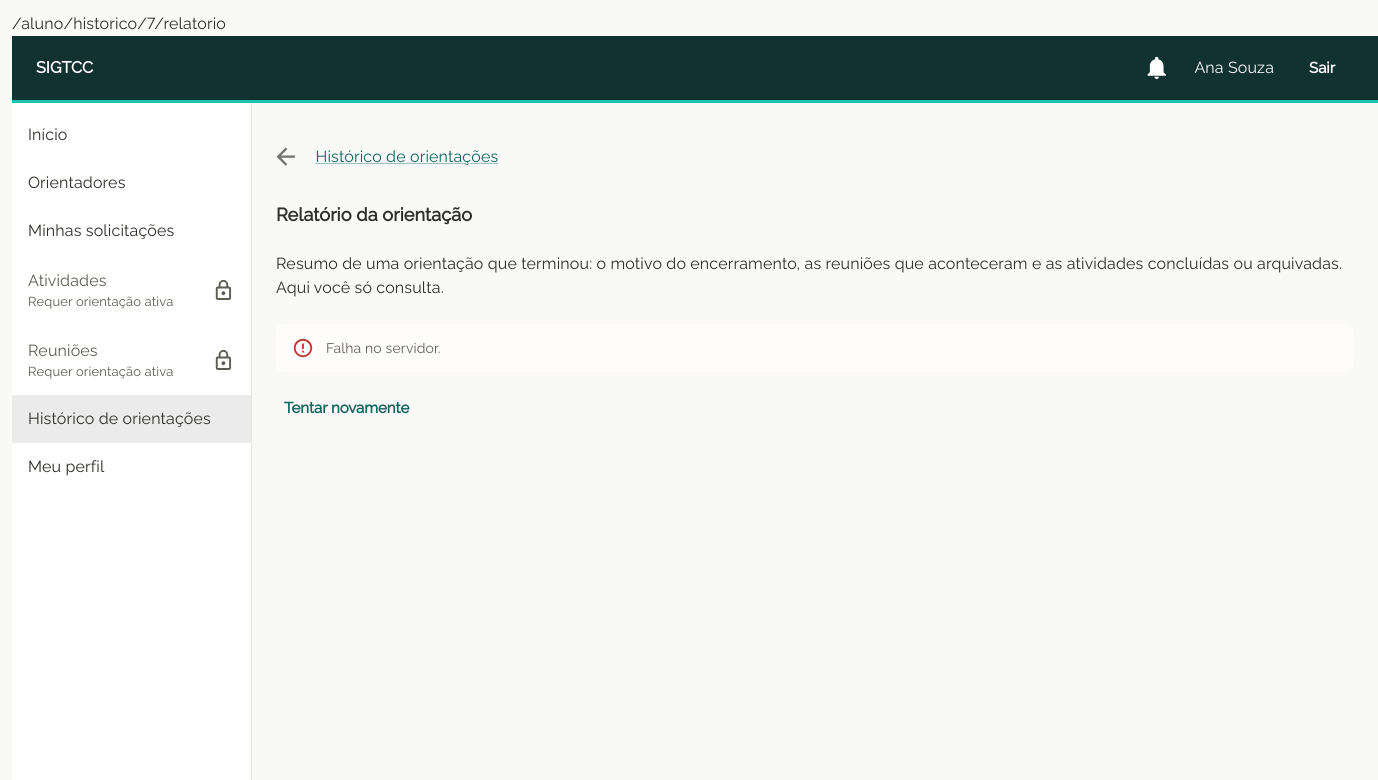
AdvisingReportPage: carregamento, erro e acesso negado › mostra a mensagem de erro e tenta de novo
The image size is (1378, 780).
Expected: the message shows ".", [276,324,1354,372]
Click the button "Tentar novamente": [347, 408] box [276,388,417,428]
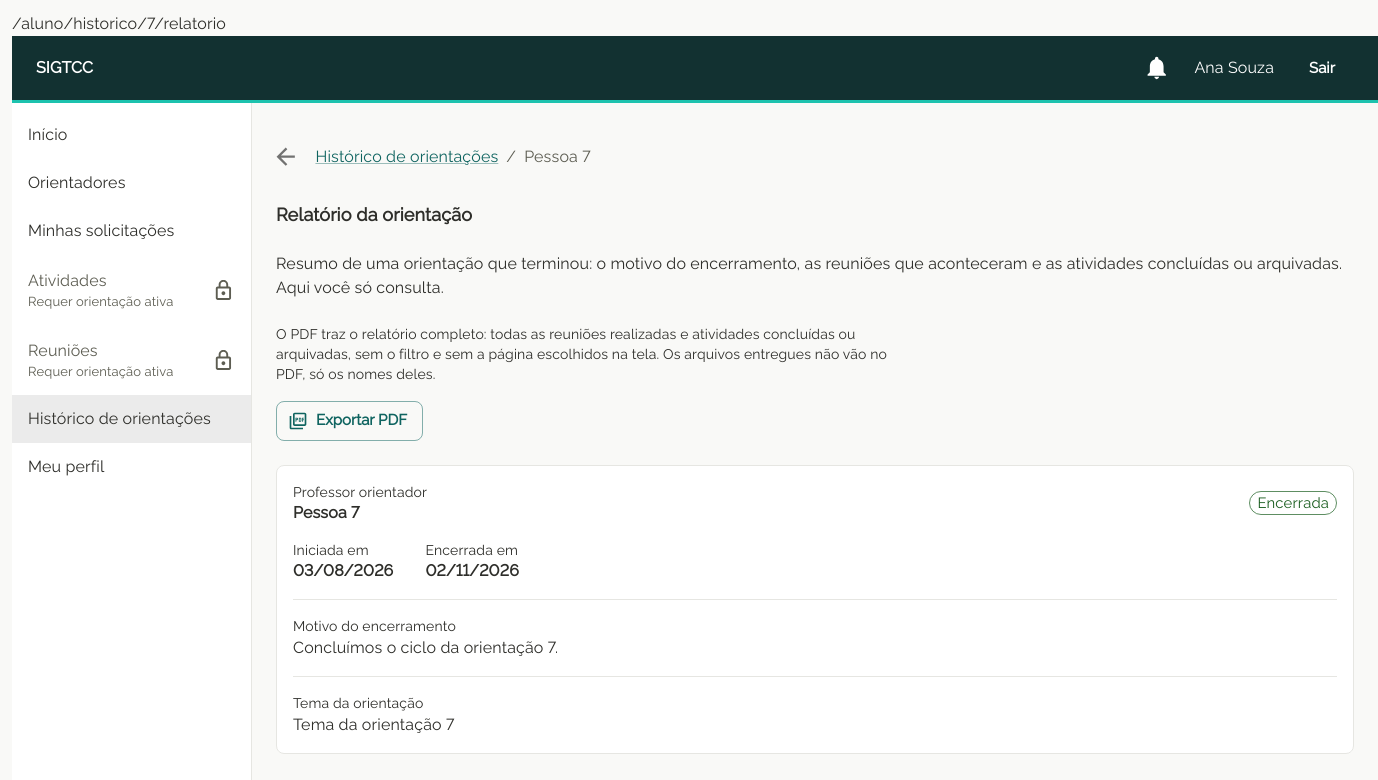
Now the heading "Pessoa 7" is shown, box [293,503,360,522]
